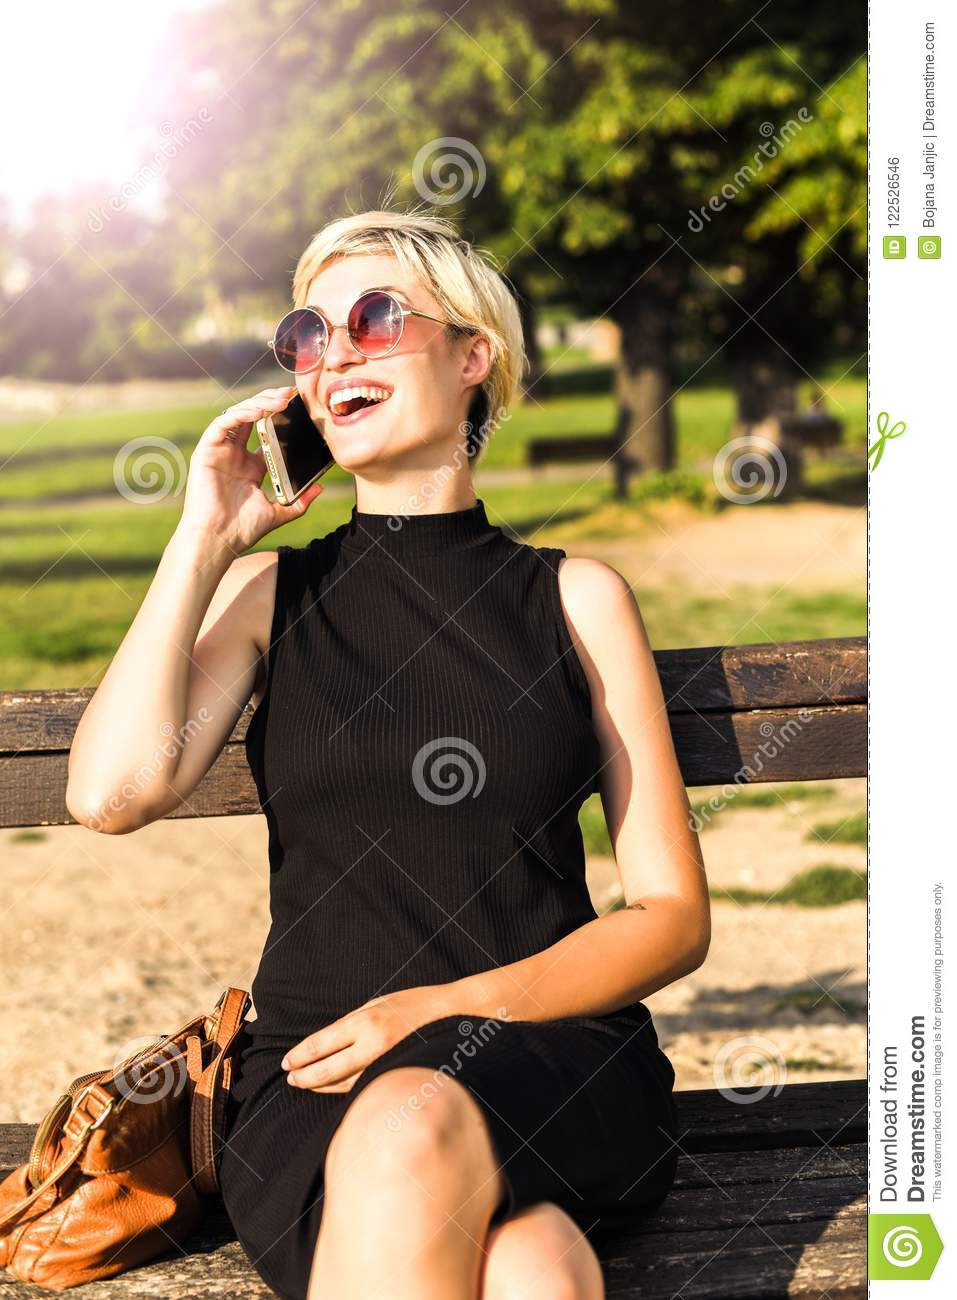phone: (257, 392, 332, 520)
talk: (183, 281, 426, 559)
